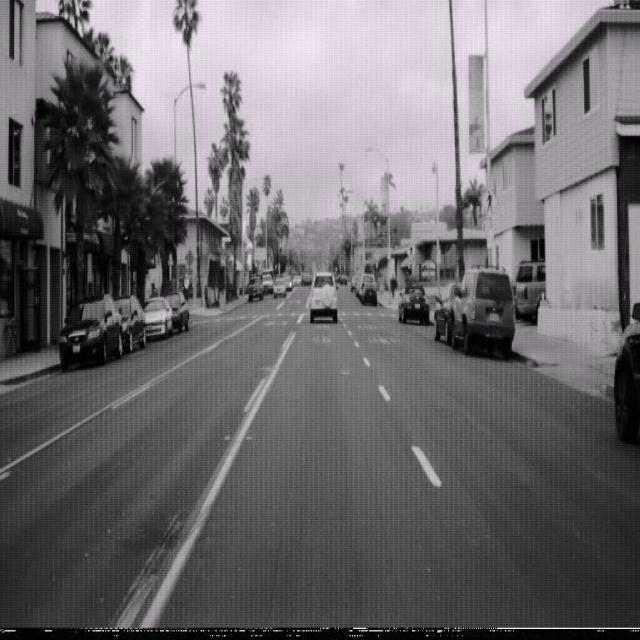pedestrianCrossing: (480, 184, 499, 221)
